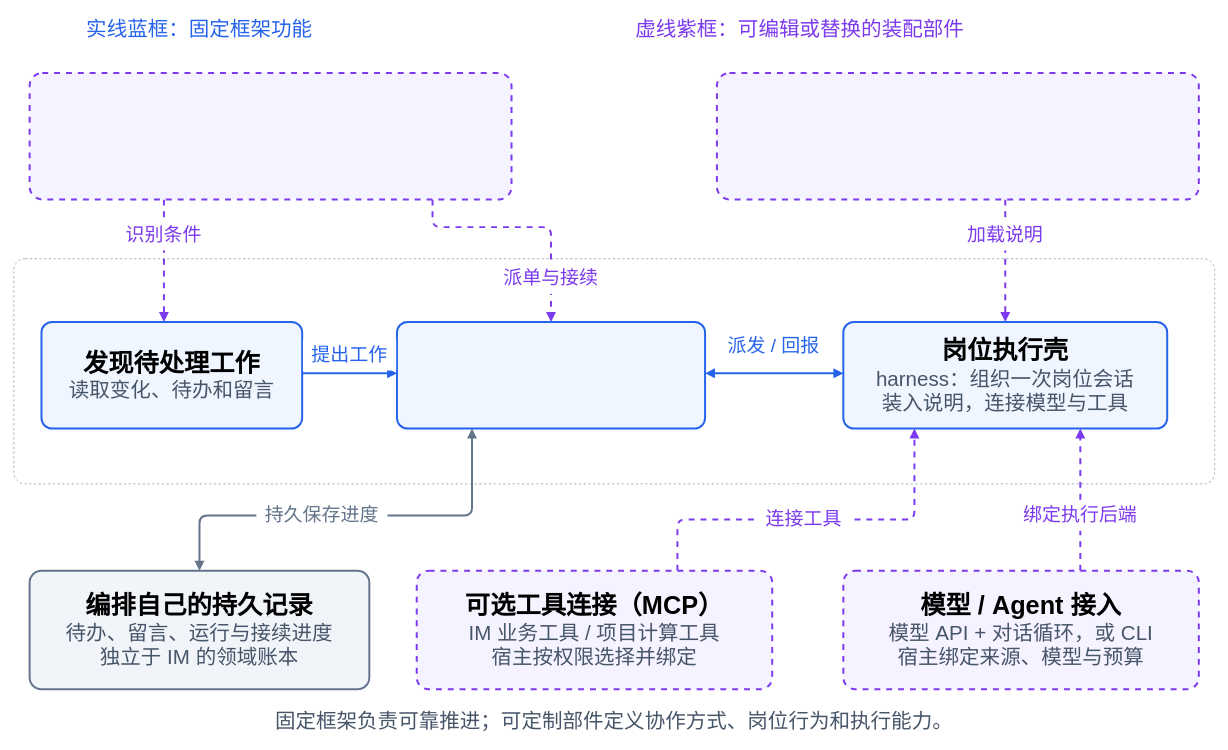
The diagram is 1228 pixels wide and 750 high, and some of its shapes have lost their labels. The shapes that lost their labels are listed below. From the top down, each one's box as (x1, y1, x2, y2) in pixels, then its label:
(28, 72, 512, 200): 协作规则代码 何时叫谁、怎样交接、何时继续 显式注册规则；五岗是现有业务装配
(716, 72, 1199, 200): 岗位说明包 岗位职责、输入输出约定、工具清单 编辑文件 → 构建并加载岗位包
(396, 321, 706, 429): 安排并监督执行 检查授权、额度和重复请求 观察进度、核对交付与恢复
(13, 258, 1215, 484): 固定功能
